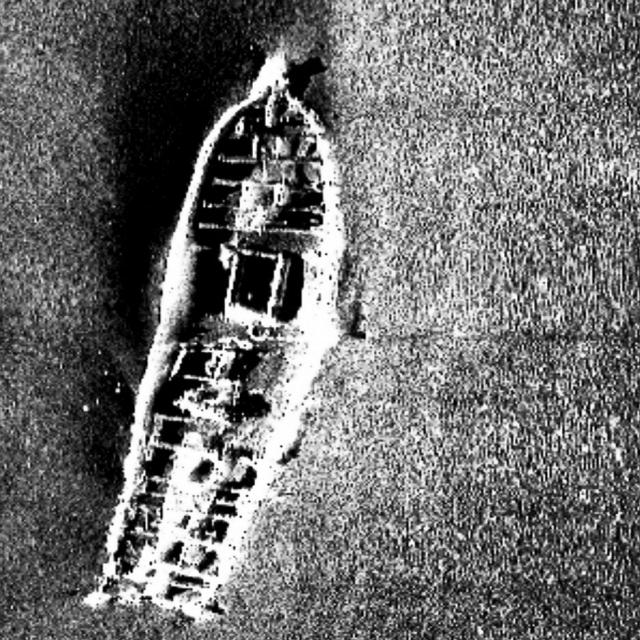ship: (125, 52, 336, 608)
